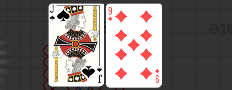7S: (96, 67, 104, 85)
9D: (154, 68, 161, 85)
